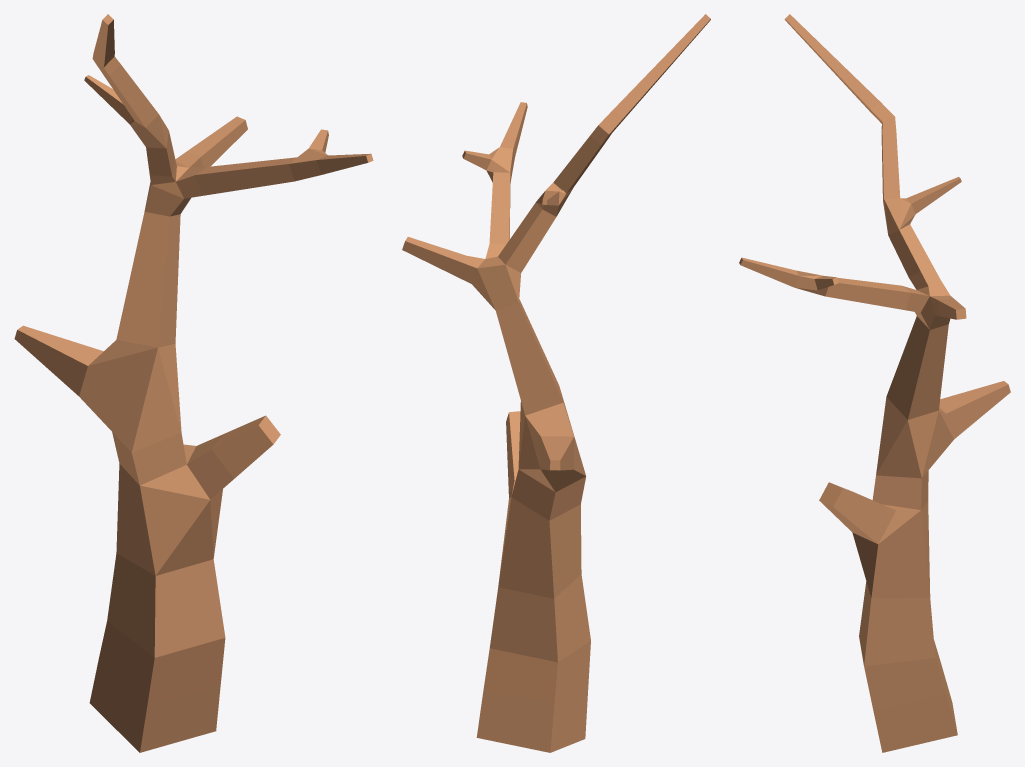
The model's file is tree2.fbx.
3 renders of one model, left to right at view 1: azimuth 30°, elevation 25°; view 2: azimuth 150°, elevation 25°; view 3: azimuth 270°, elevation 25°, orthographic. The views are drawn at different scales.
Parts seen in each view (by area): view 1: Tree; view 2: Tree; view 3: Tree.
Boxes of the visible parts, x1,y1,x2,y2 form: Tree: [14, 14, 373, 752]; Tree: [402, 14, 710, 752]; Tree: [739, 14, 1010, 752].
Size of the model in its own units: 159 by 478 by 175.
